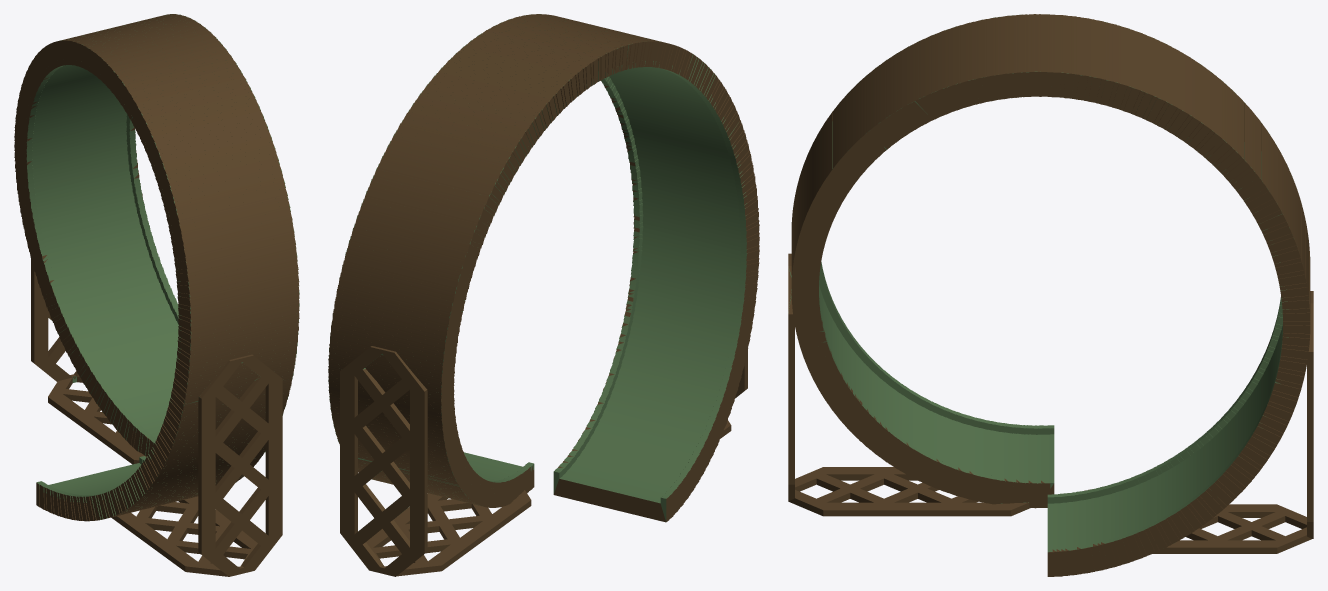
File: loop.fbx
3 views of the same model, side by side, from view 1: azimuth 30°, elevation 25°; view 2: azimuth 150°, elevation 25°; view 3: azimuth 270°, elevation 25° (orthographic). The views are drawn at different scales.
Visible parts, largest first — view 1: Loop De Loop.001; view 2: Loop De Loop.001; view 3: Loop De Loop.001.
Boxes of the visible parts, x1,y1,x2,y2 form: Loop De Loop.001: [14, 14, 299, 576]; Loop De Loop.001: [328, 14, 759, 576]; Loop De Loop.001: [788, 14, 1313, 576].
Bounding box in the file's own units: 4400 × 7601 × 7700.
